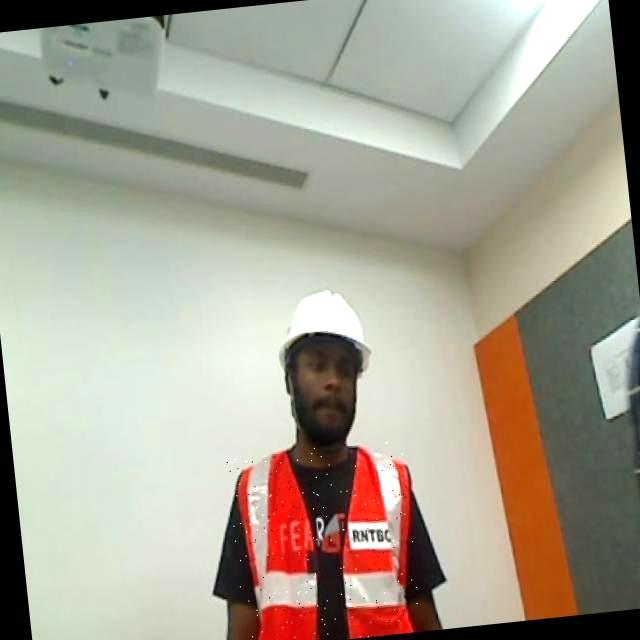hard_hat: (282, 291, 370, 371)
person: (213, 333, 445, 639)
